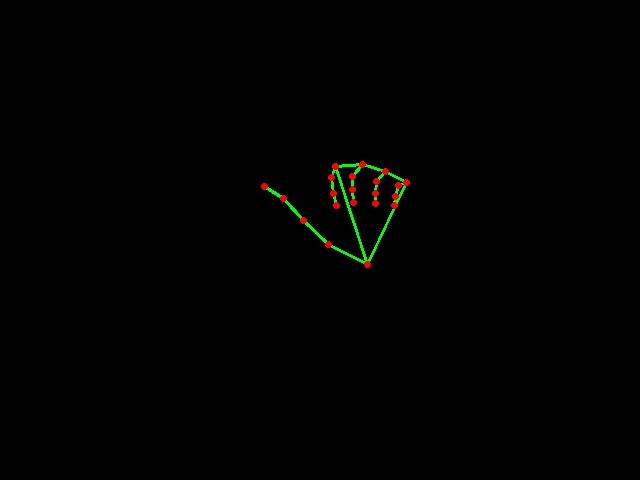right: (248, 153, 421, 277)
